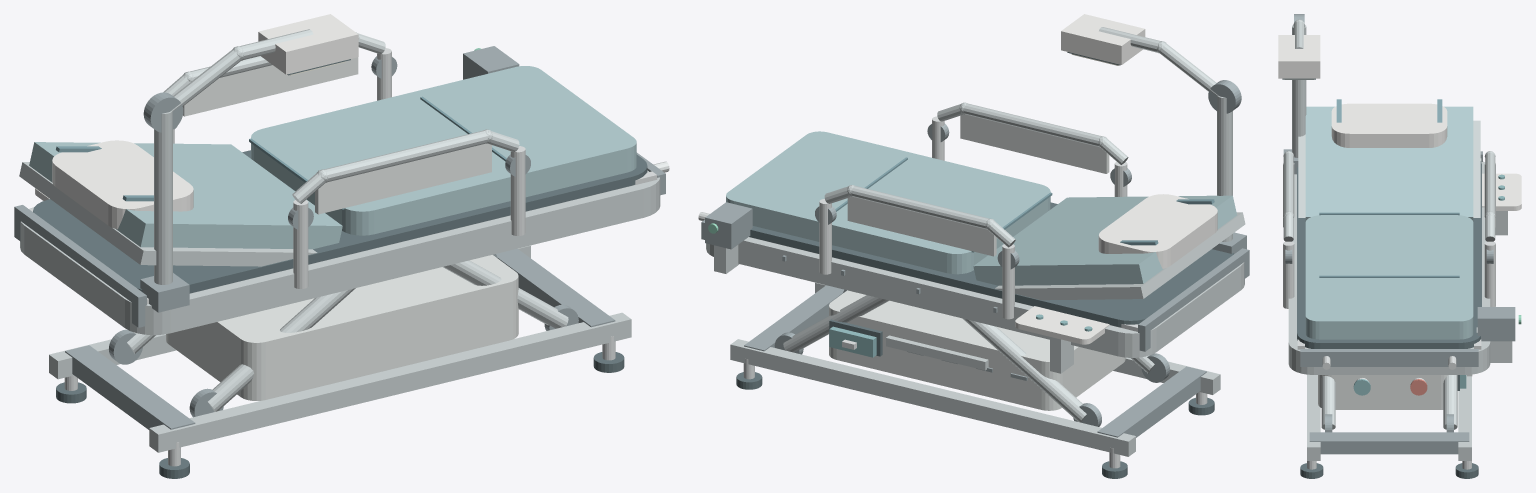
File: medical_exam_cot.glb
3 views of the same model, side by side, from view 1: azimuth 30°, elevation 25°; view 2: azimuth 150°, elevation 25°; view 3: azimuth 270°, elevation 25° (orthographic). The views are drawn at different scales.
Parts seen in each view (by area): view 1: STATIC_light_aluminium, STATIC_cabinet_ivory, STATIC_medical_cushion, STATIC_mechanical_grey, hinged_backrest_cushion, STATIC_rubber_gasket, STATIC_ceramic_white, STATIC_polished_alloy, STATIC_medical_deep; view 2: STATIC_light_aluminium, STATIC_medical_cushion, STATIC_cabinet_ivory, STATIC_mechanical_grey, hinged_backrest_cushion, STATIC_ceramic_white, STATIC_rubber_gasket, STATIC_polished_alloy, service_cartridge, STATIC_medical_deep; view 3: STATIC_medical_cushion, hinged_backrest_cushion, STATIC_light_aluminium, STATIC_mechanical_grey, STATIC_ceramic_white, STATIC_rubber_gasket, STATIC_cabinet_ivory, STATIC_polished_alloy, STATIC_medical_deep, STATIC_soft_teal.
Boxes of the visible parts, x1,y1,x2,y2 form: STATIC_light_aluminium: [19, 29, 660, 452]; STATIC_cabinet_ivory: [166, 57, 518, 400]; STATIC_medical_cushion: [251, 66, 636, 235]; STATIC_mechanical_grey: [14, 46, 665, 429]; hinged_backrest_cushion: [29, 142, 342, 249]; STATIC_rubber_gasket: [33, 59, 647, 478]; STATIC_ceramic_white: [35, 14, 358, 229]; STATIC_polished_alloy: [29, 48, 669, 466]; STATIC_medical_deep: [56, 96, 506, 209]; STATIC_light_aluminium: [706, 27, 1245, 456]; STATIC_medical_cushion: [726, 131, 1050, 274]; STATIC_cabinet_ivory: [829, 114, 1125, 410]; STATIC_mechanical_grey: [701, 80, 1249, 437]; hinged_backrest_cushion: [973, 195, 1236, 285]; STATIC_ceramic_white: [1015, 14, 1217, 344]; STATIC_rubber_gasket: [736, 52, 1233, 478]; STATIC_polished_alloy: [698, 116, 1207, 468]; service_cartridge: [829, 326, 876, 357]; STATIC_medical_deep: [835, 157, 1214, 252]; STATIC_medical_cushion: [1305, 215, 1473, 339]; hinged_backrest_cushion: [1305, 106, 1473, 221]; STATIC_light_aluminium: [1283, 19, 1512, 460]; STATIC_mechanical_grey: [1283, 14, 1515, 454]; STATIC_ceramic_white: [1278, 35, 1521, 210]; STATIC_rubber_gasket: [1282, 78, 1481, 478]; STATIC_cabinet_ivory: [1318, 375, 1447, 409]; STATIC_polished_alloy: [1283, 158, 1495, 469]; STATIC_medical_deep: [1319, 99, 1459, 277]; STATIC_soft_teal: [1353, 174, 1504, 395].
Bounding box in the file's own units: 2.28 × 1.66 × 1.16.
